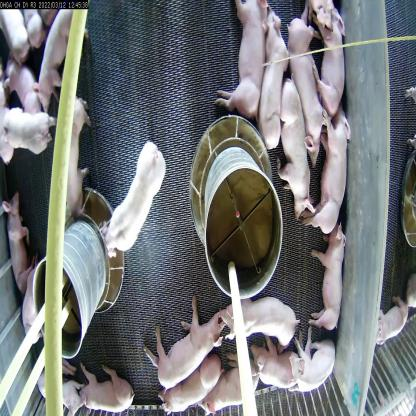Pig: (103, 138, 170, 264), (151, 297, 230, 386), (276, 56, 313, 234), (288, 7, 331, 146), (25, 10, 82, 104), (221, 0, 266, 114), (210, 289, 292, 351), (59, 85, 90, 231), (0, 90, 51, 176), (250, 330, 300, 406), (324, 119, 356, 236), (263, 20, 287, 162), (293, 333, 340, 405), (78, 356, 133, 416), (314, 0, 342, 115), (14, 270, 51, 355), (322, 234, 350, 346), (169, 359, 222, 415), (2, 186, 32, 281), (209, 368, 268, 415)
